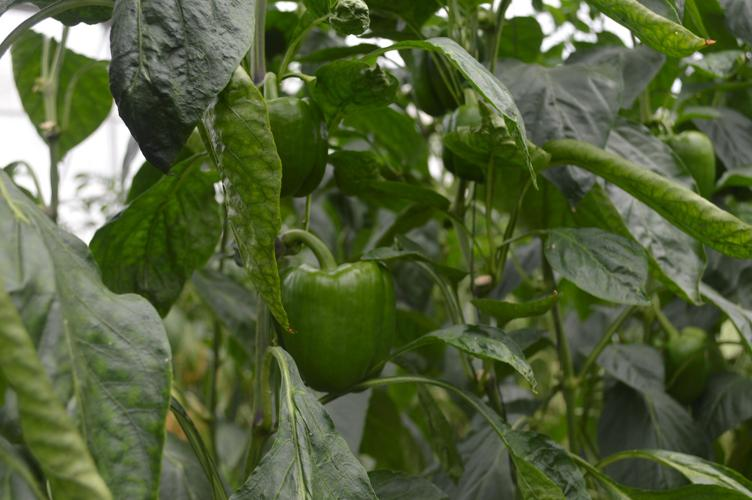BellPepper: (263, 258, 418, 395), (246, 95, 342, 206), (647, 324, 727, 421), (669, 127, 729, 203)
